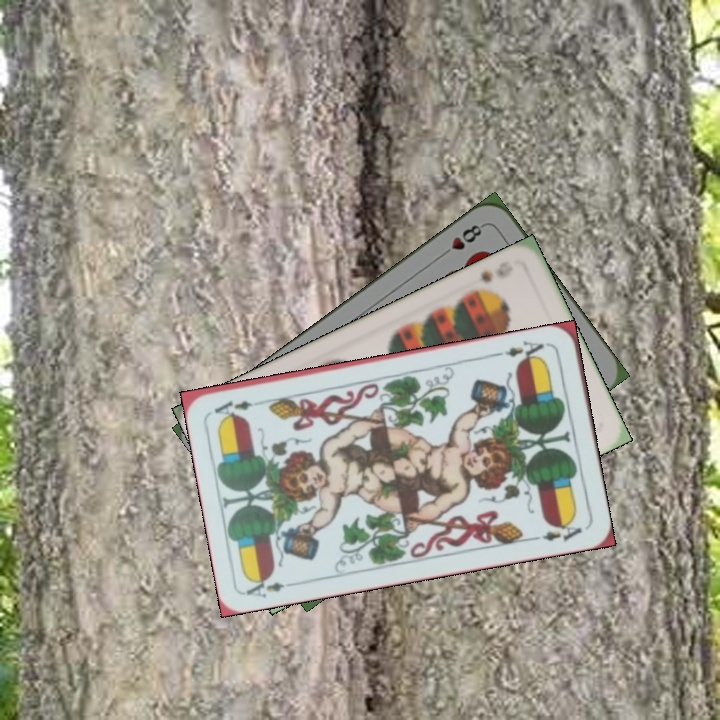EA: (493, 336, 552, 365), (242, 572, 301, 601)
H8: (436, 220, 487, 260)
S9: (466, 266, 495, 298)
